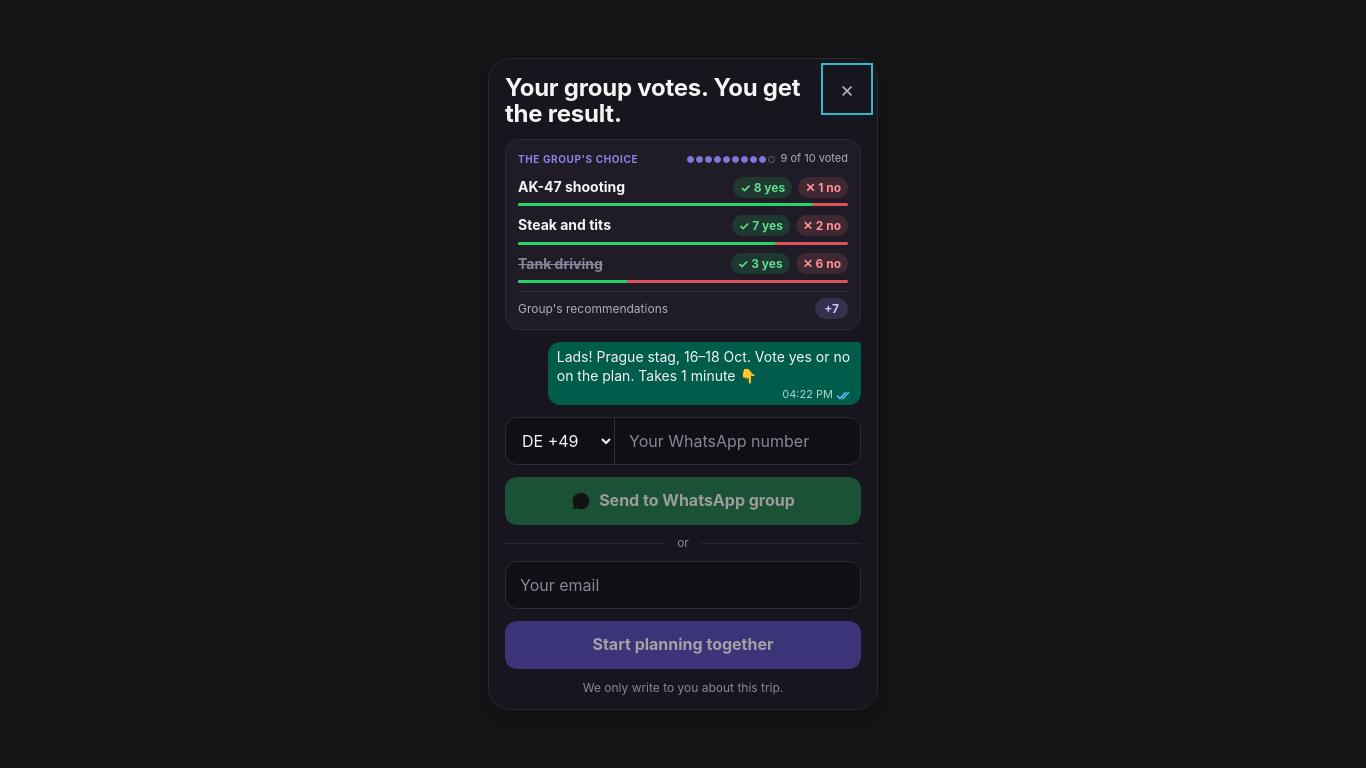
Test: half a number does not count: it has to be a whole number for the country picked
The width and height of the screenshot is (1366, 768).
Select "UK +44" in the dropdown named "Country code" at (560, 441), box [506,418,615,464]
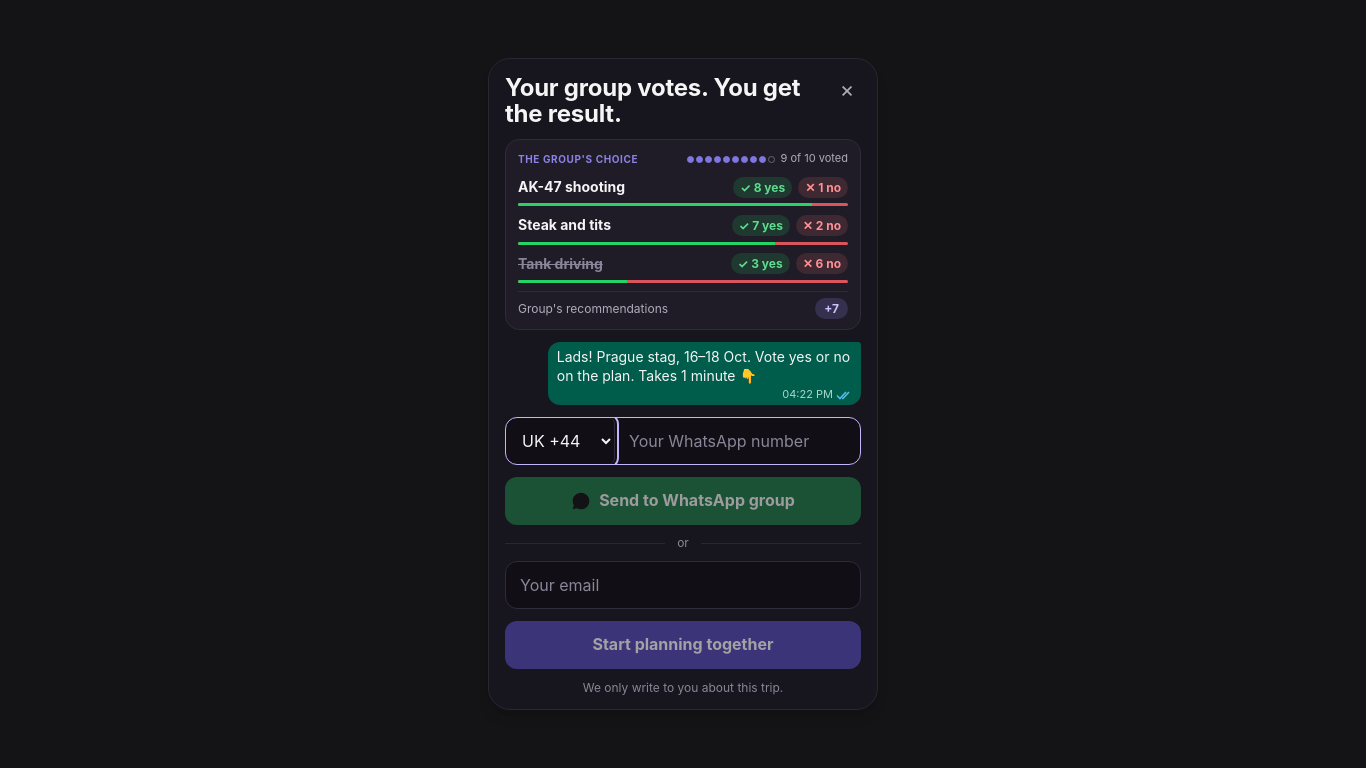
Note: UK mobiles are 10 digits after the trunk 0.
Type "7700 900" into the field labelled "Your WhatsApp number" at (738, 441), box [615,418,860,464]
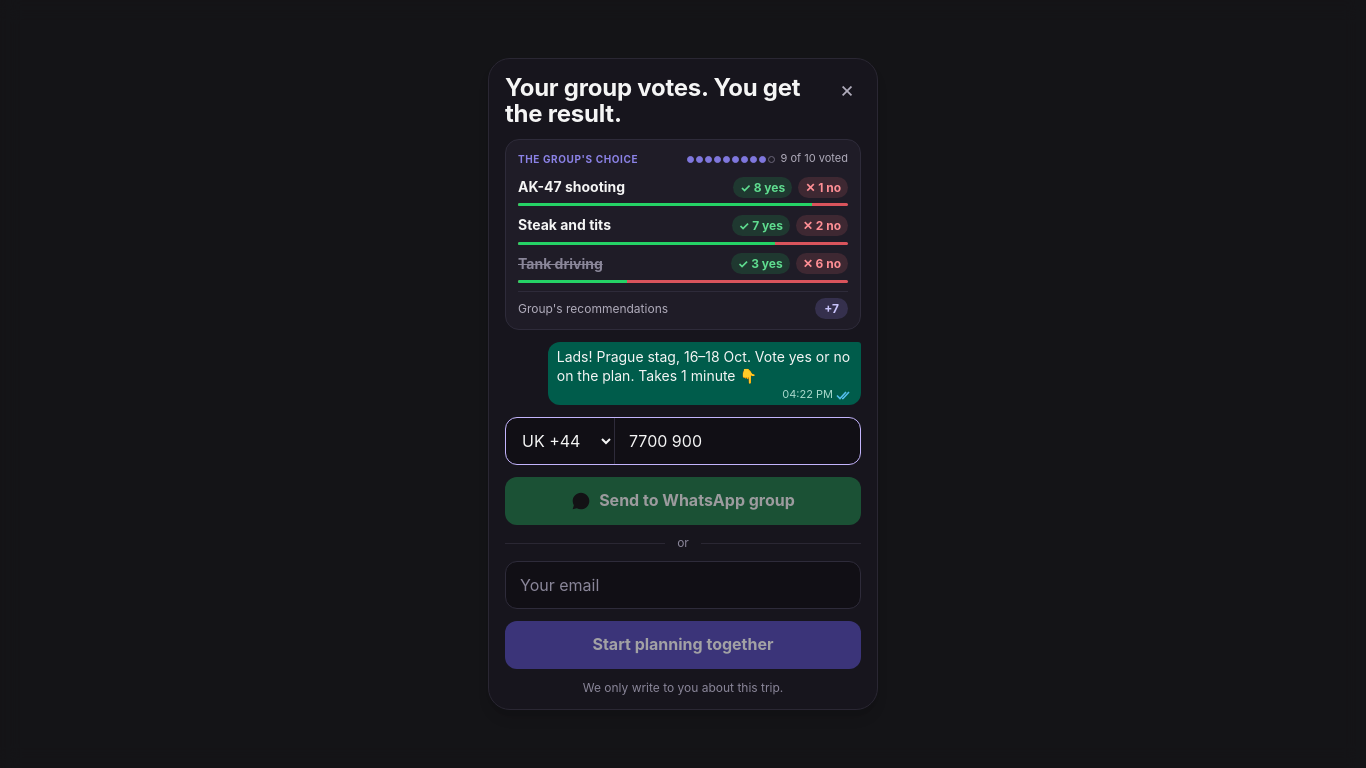
Check: the button "Send to WhatsApp group" is disabled, box [505,477,861,525]
Type "123" into the field named "Your WhatsApp number" at (738, 441), box [615,418,860,464]
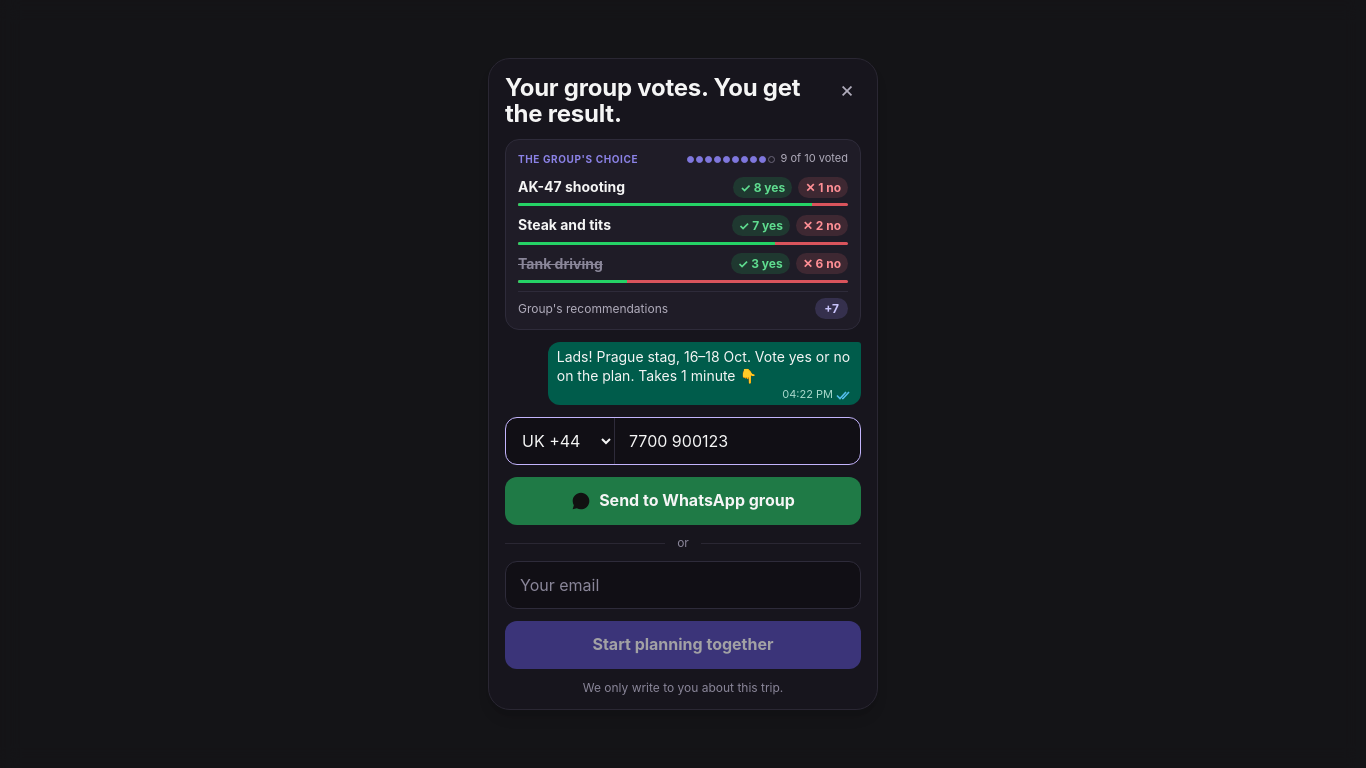
Check: the button "Send to WhatsApp group" is enabled, box [505,477,861,525]
Note: The same field under another country: Czech numbers are 9 digits, so 7 are not one.
Select "CZ +420" in the dropdown named "Country code" at (560, 441), box [506,418,615,464]
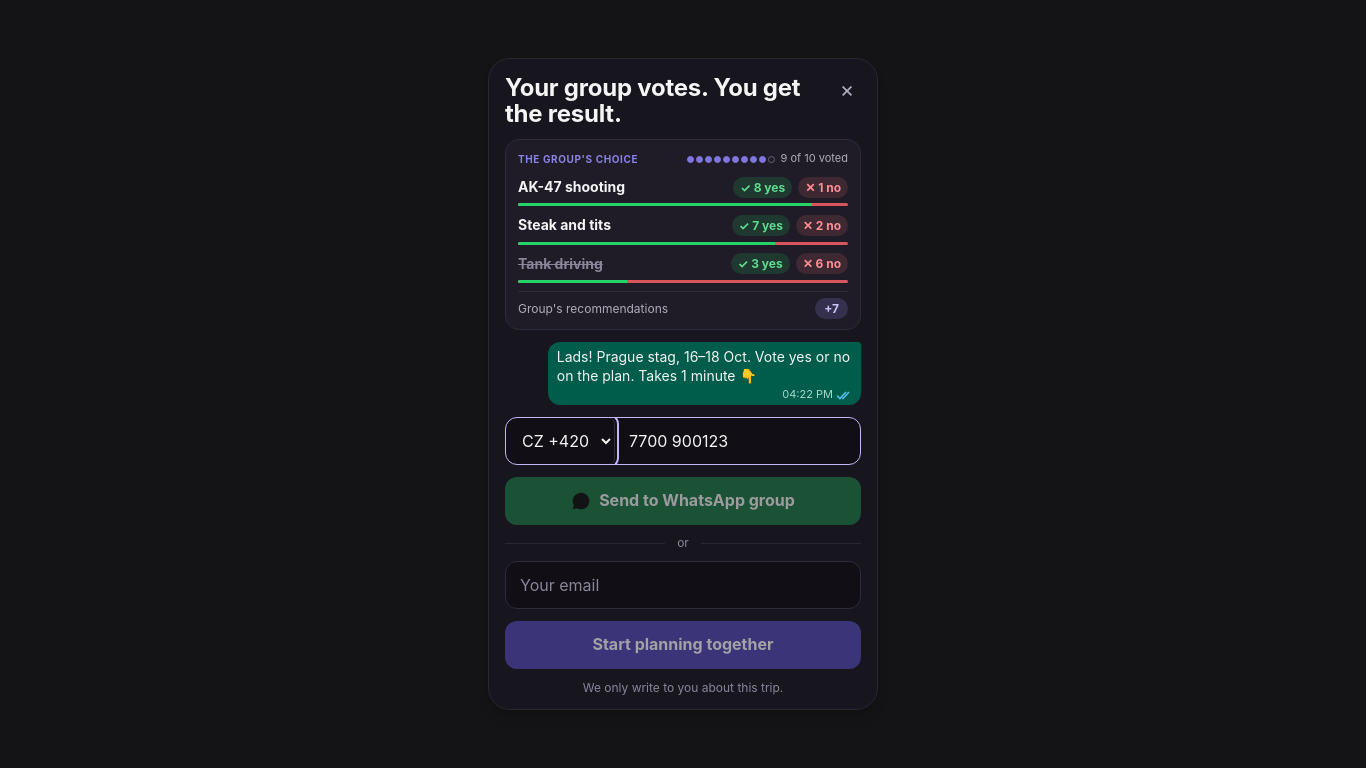
Replace the text in the field named "Your WhatsApp number" with "6085940" at (738, 441), box [615,418,860,464]
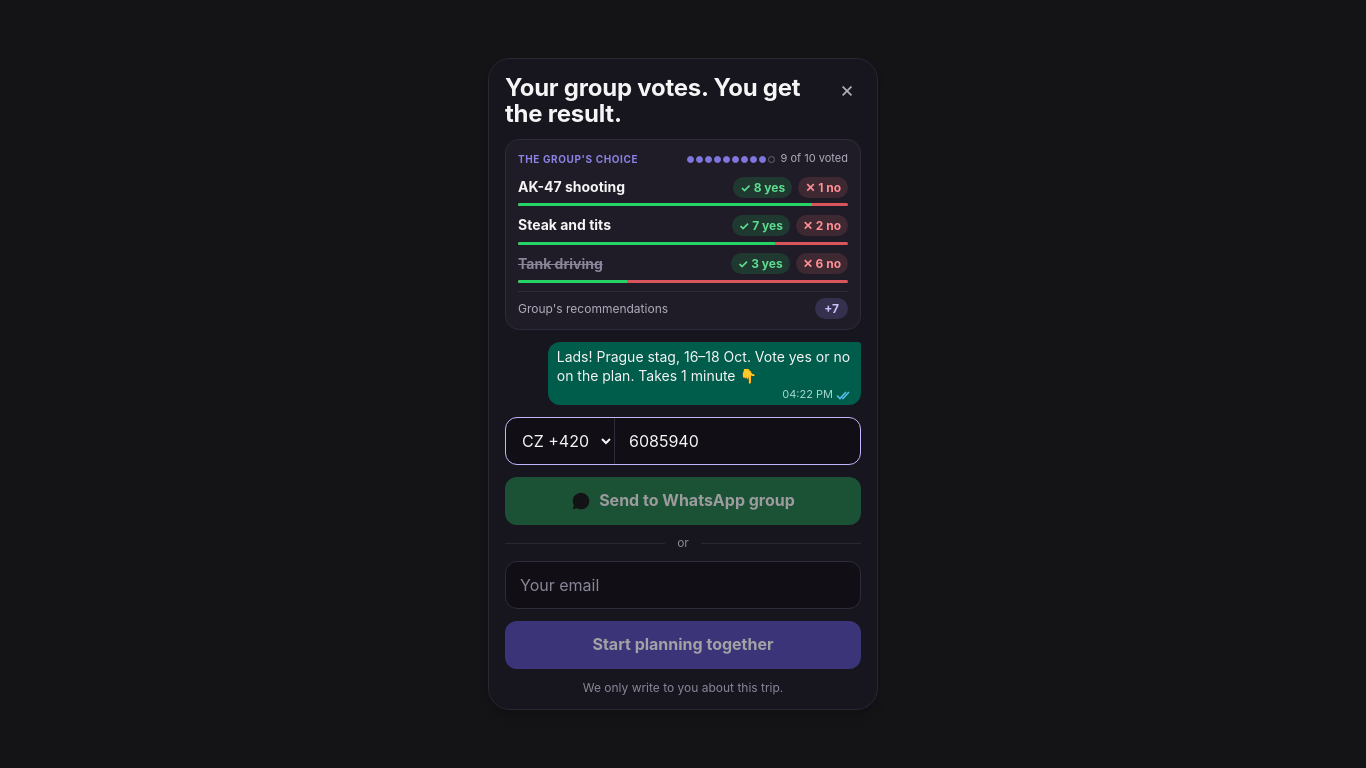
Check: the button "Send to WhatsApp group" is disabled, box [505,477,861,525]
Type "12" into the field named "Your WhatsApp number" at (738, 441), box [615,418,860,464]
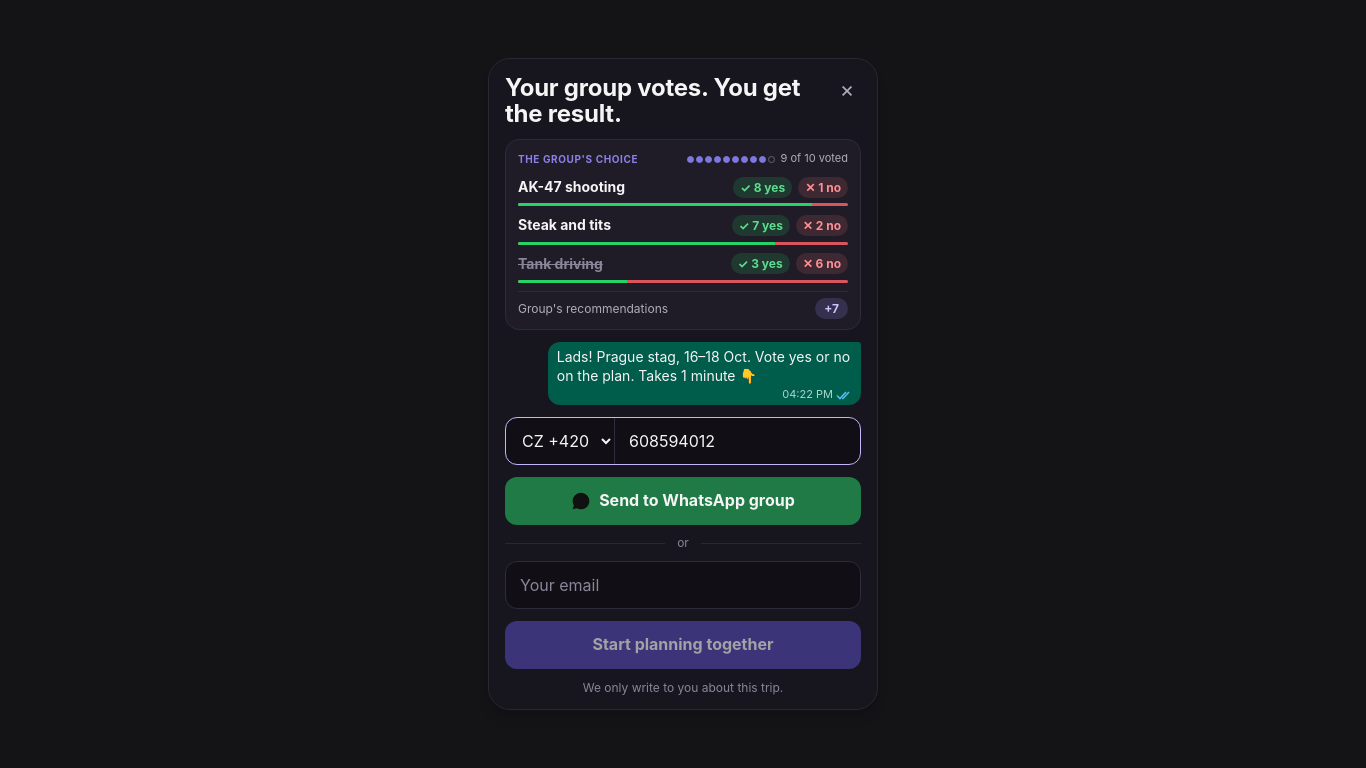
Check: the button "Send to WhatsApp group" is enabled, box [505,477,861,525]
